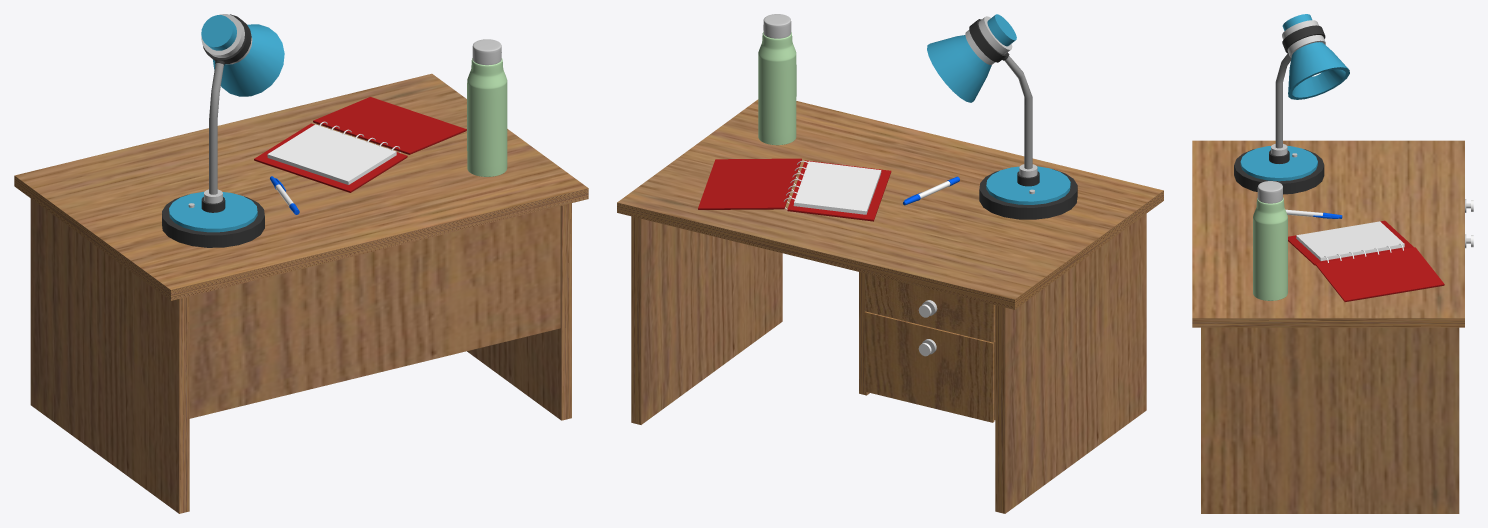
Rendered from studytable.glb.
3 renders of one model, left to right at view 1: azimuth 30°, elevation 25°; view 2: azimuth 150°, elevation 25°; view 3: azimuth 270°, elevation 25°, orthographic. The views are drawn at different scales.
Visible parts, largest first — view 1: Object_13, Object_9, Object_8, Object_3, Object_5, Object_10, Object_12, Object_11, Object_2; view 2: Object_13, Object_8, Object_9, Object_3, Object_5, Object_10, Object_11, Object_12, Object_2; view 3: Object_13, Object_8, Object_9, Object_3, Object_5, Object_10, Object_11, Object_12, Object_2.
Part boxes in pixels (x1,y1,x2,y2): Object_13: (14, 73, 588, 513); Object_9: (169, 15, 284, 232); Object_8: (254, 97, 466, 192); Object_3: (467, 58, 507, 176); Object_5: (267, 124, 396, 184); Object_10: (162, 14, 264, 247); Object_12: (209, 63, 223, 194); Object_11: (188, 14, 252, 207); Object_2: (472, 39, 501, 65); Object_13: (617, 99, 1163, 513); Object_8: (698, 158, 891, 221); Object_9: (927, 14, 1070, 204); Object_3: (758, 32, 796, 145); Object_5: (793, 161, 881, 214); Object_10: (969, 19, 1077, 219); Object_11: (922, 16, 1037, 354); Object_12: (1004, 56, 1032, 169); Object_2: (763, 14, 791, 38); Object_13: (1192, 140, 1464, 513); Object_8: (1288, 220, 1444, 301); Object_9: (1240, 14, 1349, 181); Object_3: (1253, 197, 1287, 300); Object_5: (1296, 221, 1404, 260); Object_10: (1234, 25, 1325, 194); Object_11: (1271, 20, 1470, 248); Object_12: (1275, 53, 1291, 148); Object_2: (1257, 181, 1282, 203).
Bounding box in the file's own units: 8.01 × 7.91 × 5.36.
Materials: 14 (1 with a texture image).
